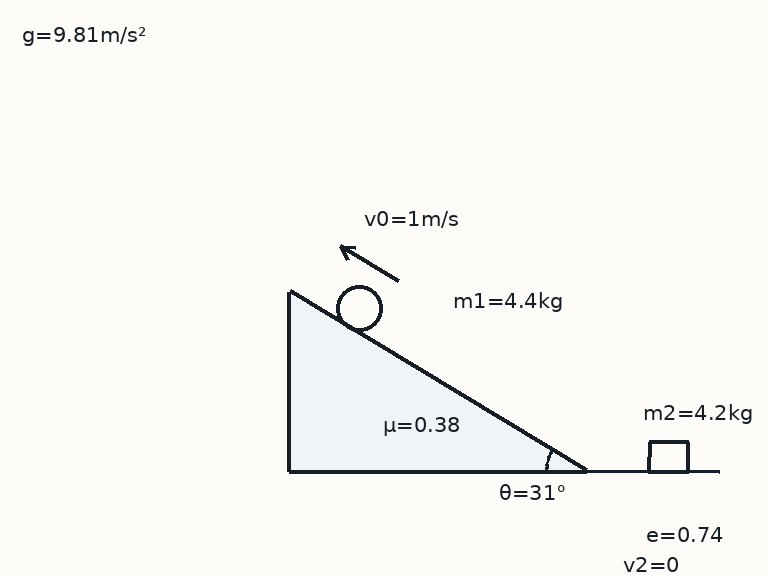ball: (334, 283, 384, 333)
block: (646, 440, 690, 473)
ramp: (287, 290, 588, 473)
